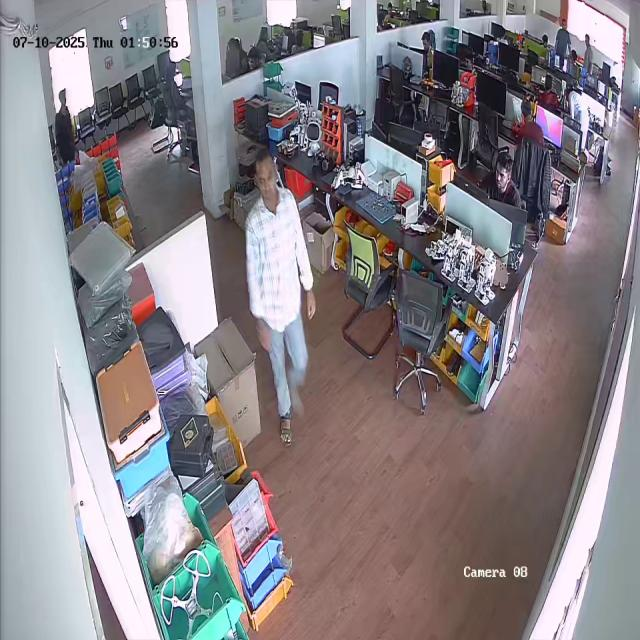person: (245, 151, 320, 451), (478, 150, 523, 220), (512, 98, 546, 162), (556, 18, 572, 61), (582, 34, 596, 76)
